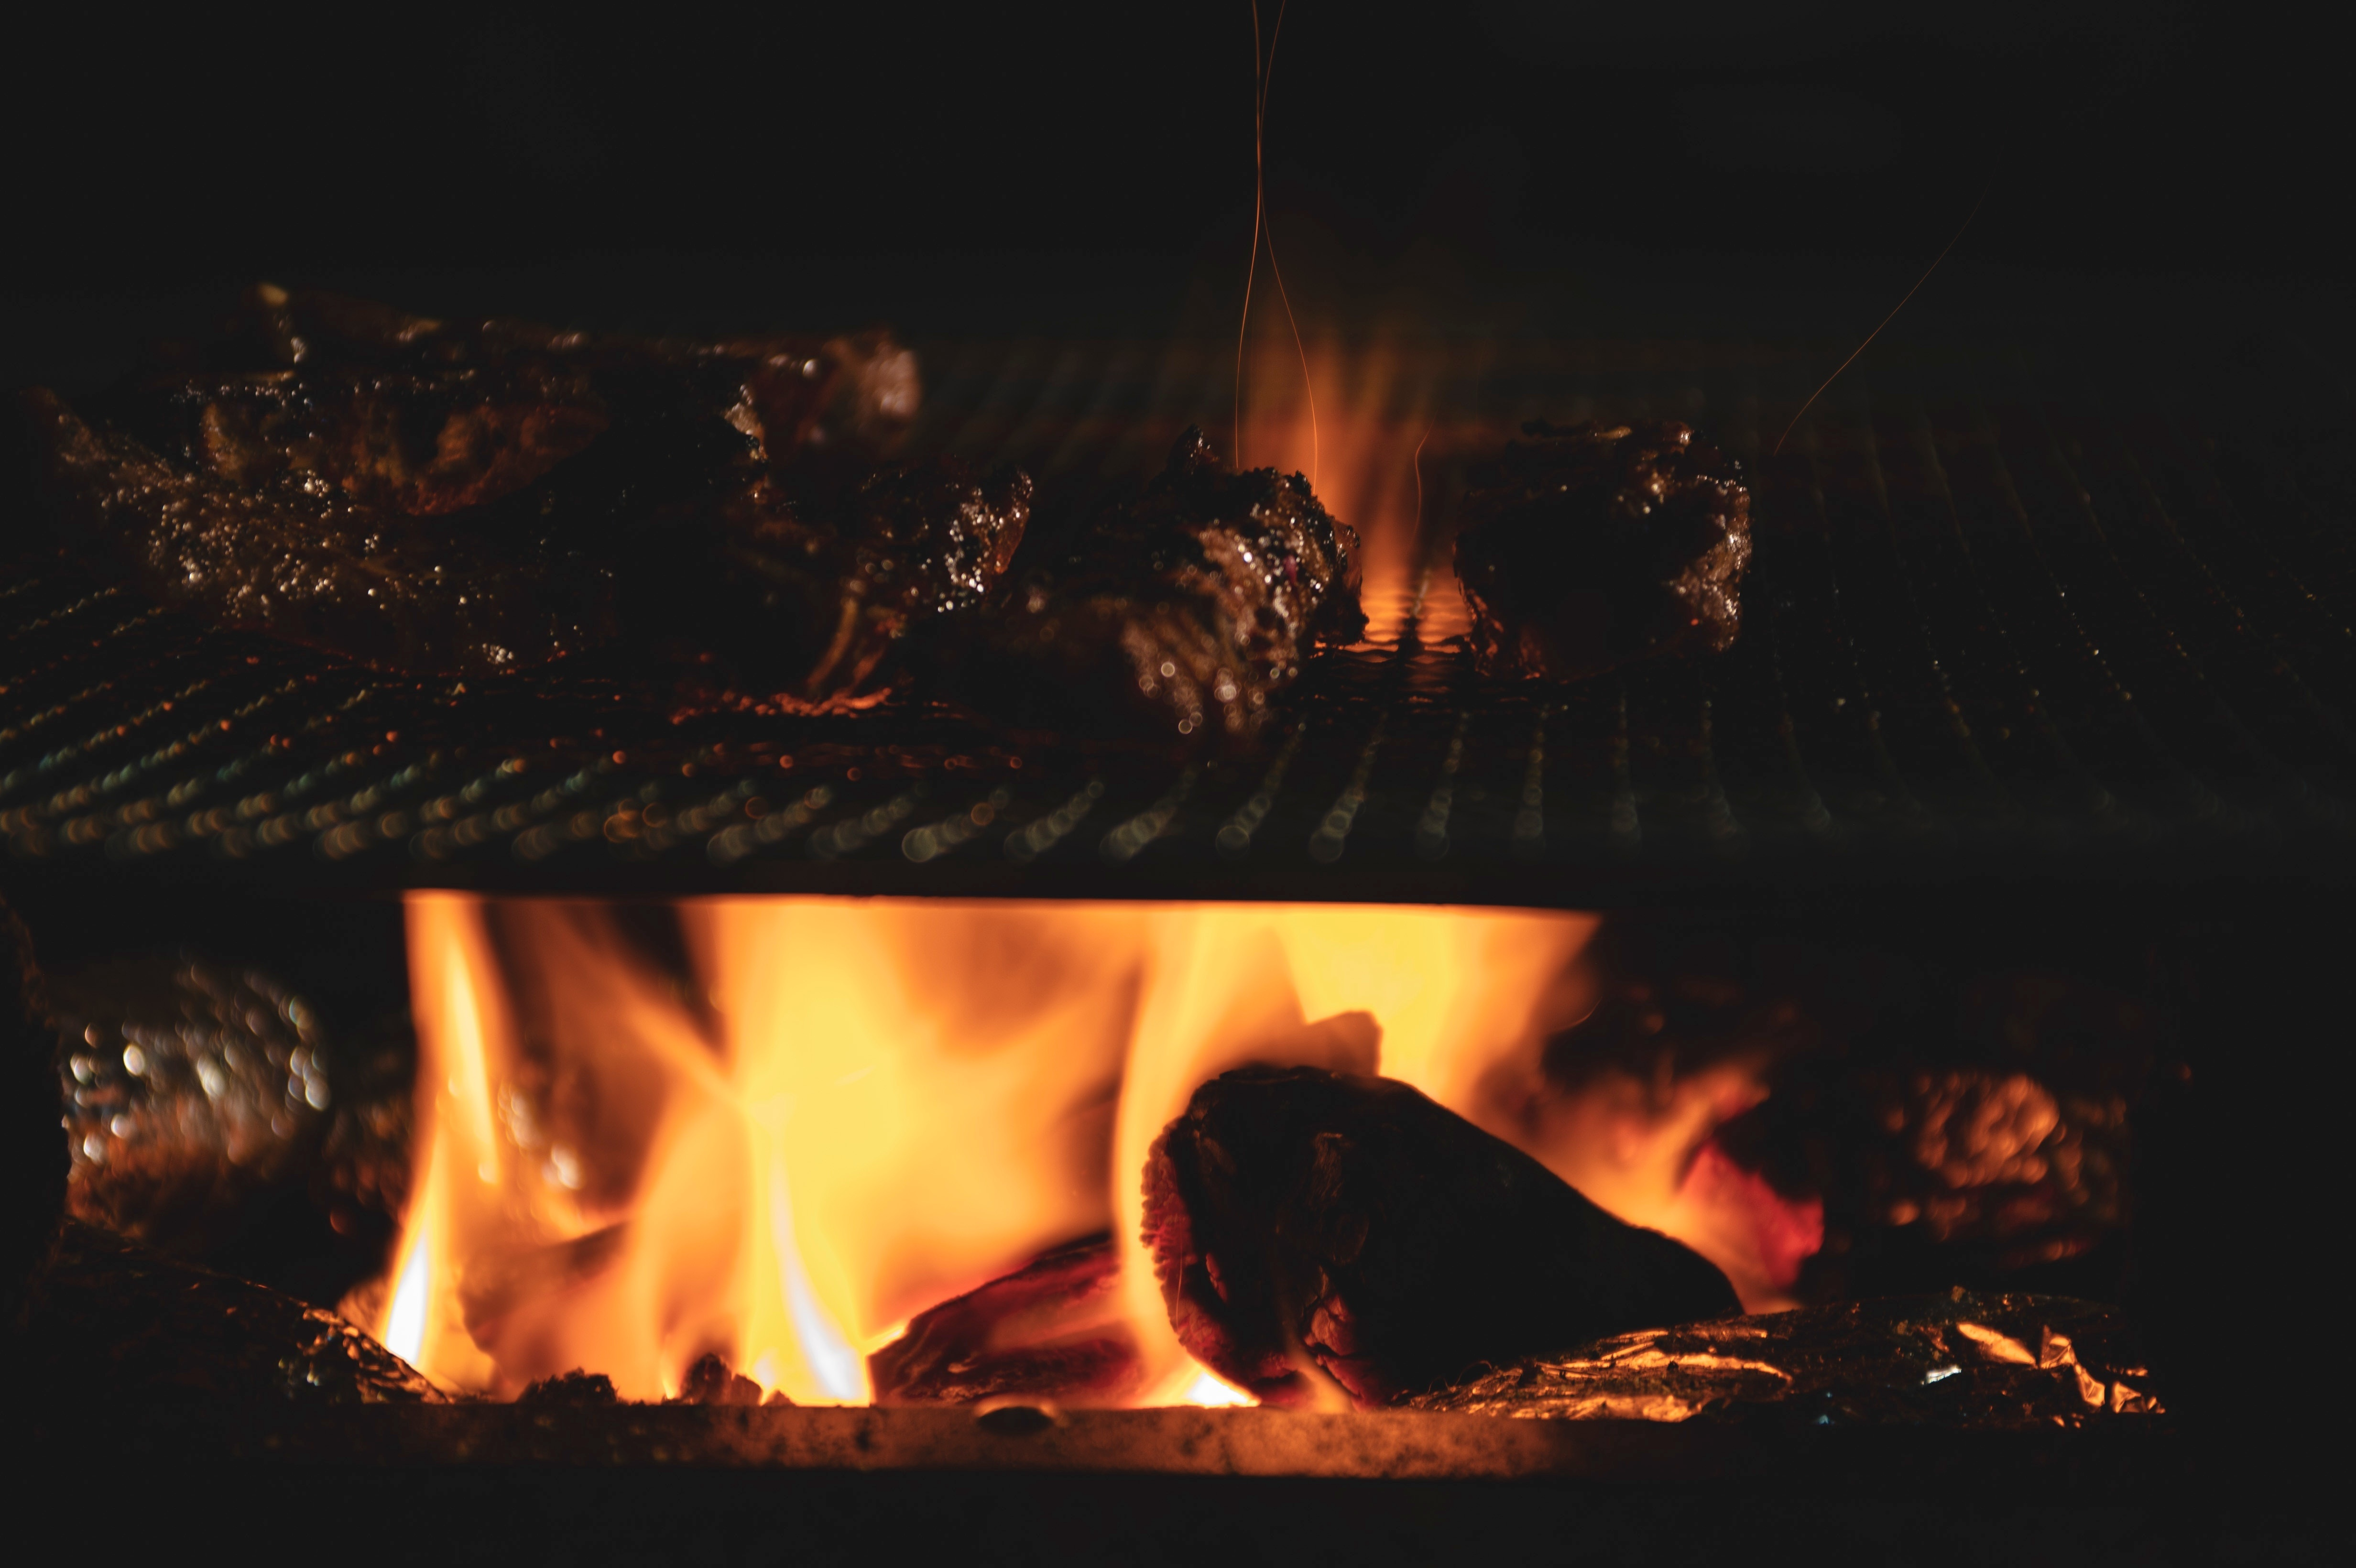fire: (305, 903, 1768, 1430), (1148, 201, 1511, 703)
